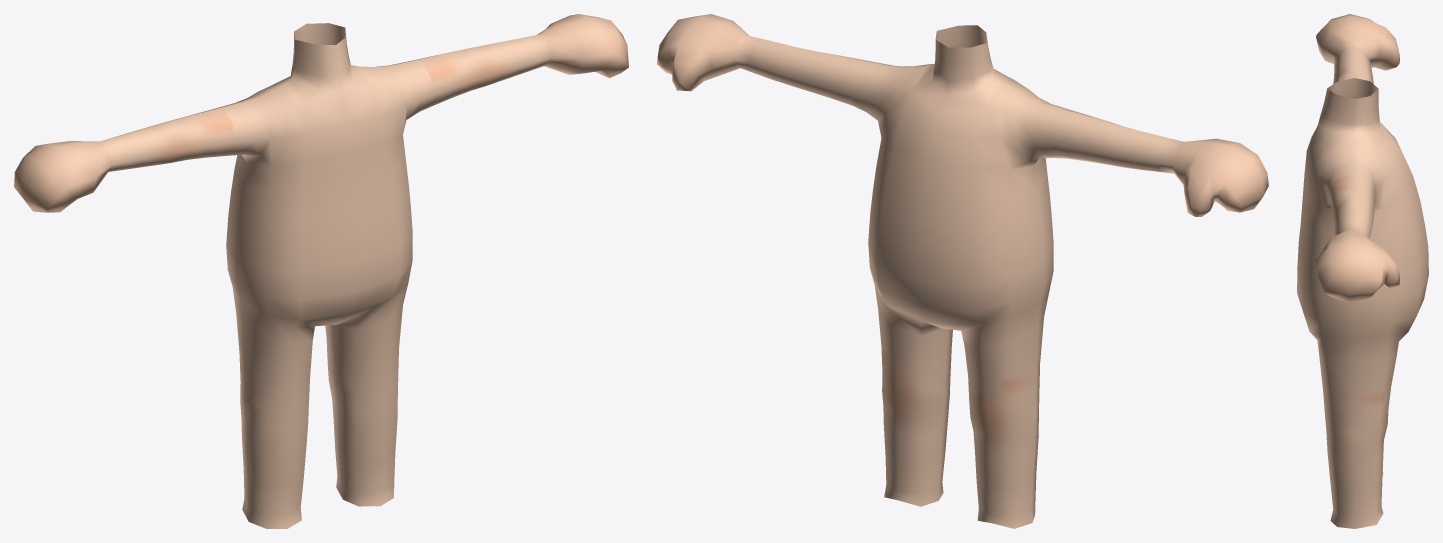
Rendered from Body_2.fbx.
3 views of the same model, side by side, from view 1: azimuth 30°, elevation 25°; view 2: azimuth 150°, elevation 25°; view 3: azimuth 270°, elevation 25° (orthographic). The views are drawn at different scales.
Parts seen in each view (by area): view 1: Body_2; view 2: Body_2; view 3: Body_2.
Boxes of the visible parts, x1,y1,x2,y2 form: Body_2: [14, 14, 628, 528]; Body_2: [657, 14, 1268, 528]; Body_2: [1297, 14, 1428, 528].
Bounding box in the file's own units: 131 × 98.58 × 28.57.
